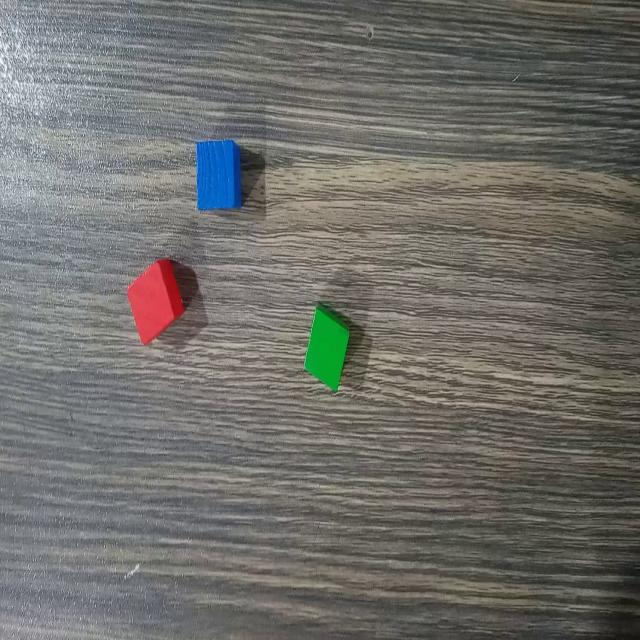cube: (124, 255, 185, 349), (301, 300, 352, 395), (192, 134, 245, 214)
